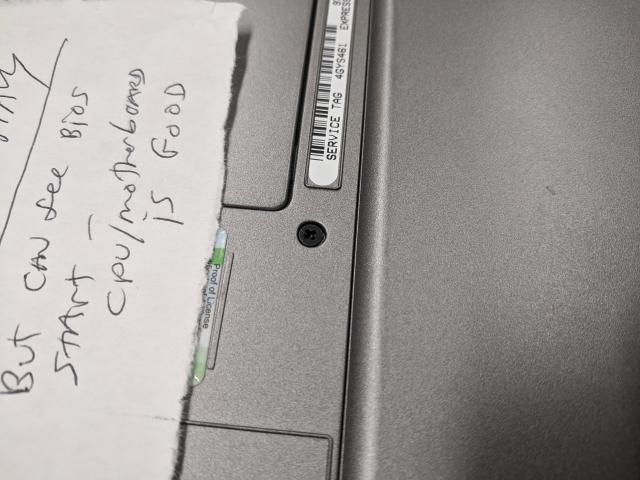CRS: (298, 220, 325, 246)
